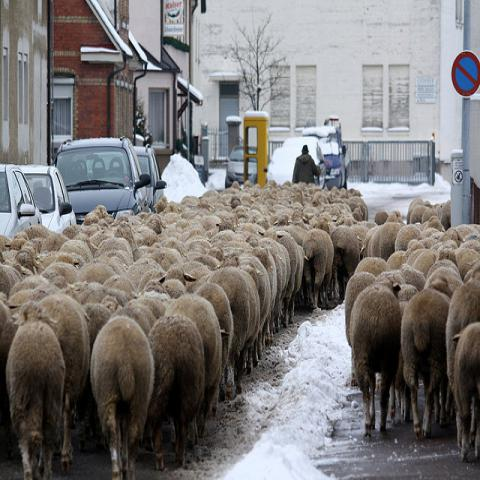car: (49, 136, 149, 226), (18, 165, 77, 233), (267, 134, 323, 186), (1, 164, 42, 235), (303, 128, 348, 189), (134, 143, 167, 208), (225, 143, 259, 189)
